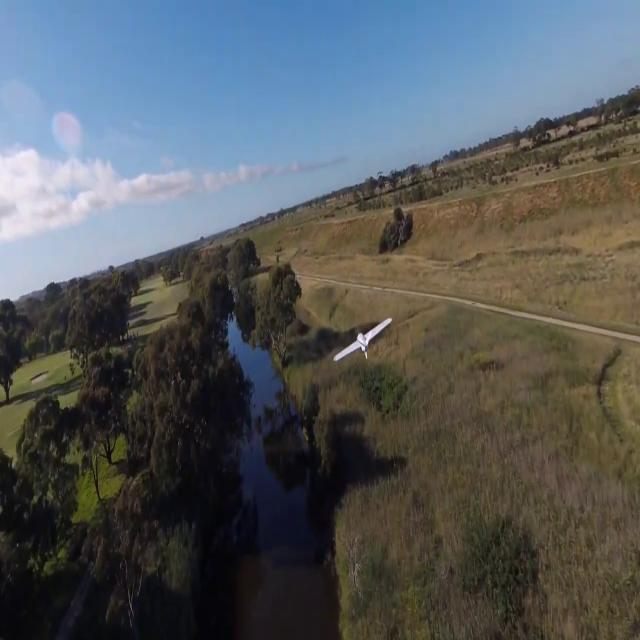iha: (334, 316, 393, 366)
